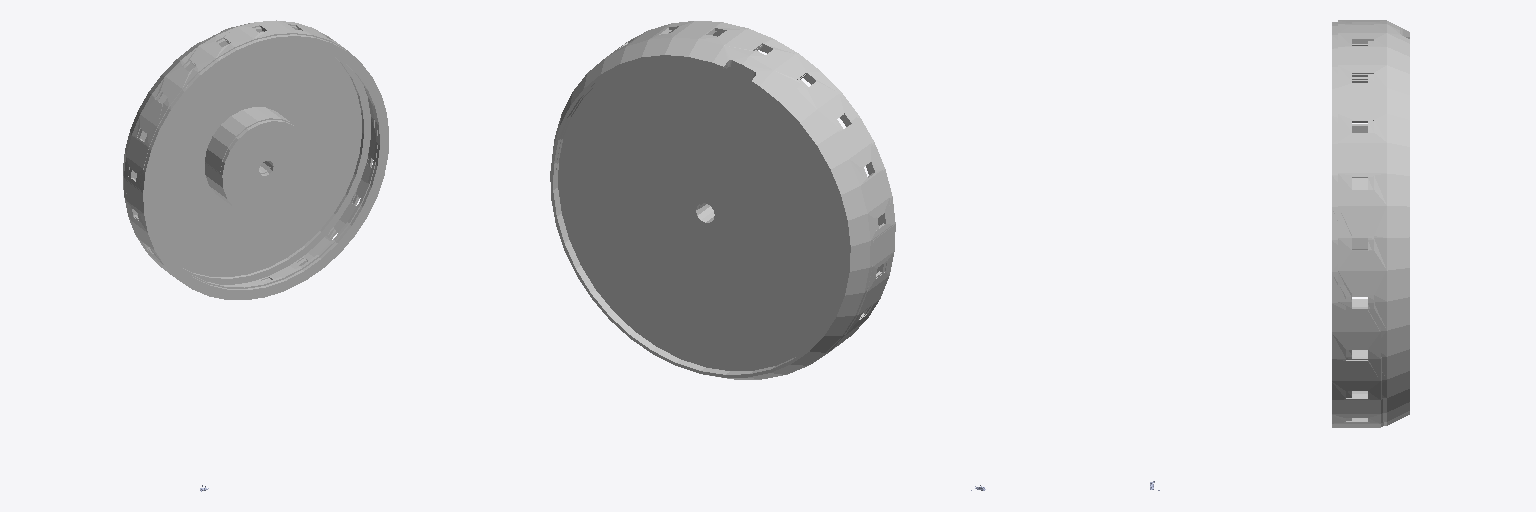
robot.urdf — car:
<robot name="car">
<!-- base link -->
  <link name="base_link">
    <inertial>
      <origin xyz="0 0 0" rpy="0 0 0" />
      <mass value="230" />
      <inertia
        ixx="933.13"
        ixy="-170.64"
        ixz="3.9682"
        iyy="696.22"
        iyz="-49.966"
        izz="472.27" />
    </inertial>
    <visual>
      <origin xyz="0 0 0" rpy="0 0 0" />
      <geometry>
        <mesh filename="package://car/meshes/base_link.STL" />
      </geometry>
      <material name="">
        <color rgba="0.79216 0.81961 0.93333 1" />
      </material>
    </visual>
    <collision>
      <origin xyz="0 0 0" rpy="0 0 0" />
      <geometry>
        <mesh filename="package://car/meshes/base_link.STL" />
      </geometry>
    </collision>
  </link>

<!-- car wheels -->
  <joint name="FL_wheel_joint" type="continuous">
    <parent link="base_link"/>
    <child link="FL_wheel"/>
    <origin xyz="0.51686 -0.01596 0.24885" rpy="0 0 0" />
  </joint>
 <link
    name="FL_wheel">
    <inertial>
      <origin
        xyz="0 0 0"
        rpy="0 0 0" />
      <mass
        value="12.374" />
      <inertia
        ixx="4.6302E-13"
        ixy="-2.0404E-09"
        ixz="3.1895E-09"
        iyy="3.0962E-05"
        iyz="2.1018E-13"
        izz="3.0962E-05" />
    </inertial>
    <visual>
      <origin xyz="0 0 0" rpy="0 0 0" />
      <geometry>
        <mesh
          filename="package://car/meshes/FL_wheel.STL" />
      </geometry>
      <material
        name="">
        <color
          rgba="0.79216 0.81961 0.93333 1" />
      </material>
    </visual>
  </link>

<joint name="FR_wheel_joint" type="continuous">
   <parent link="base_link"/>
   <child link="FR_wheel"/>
   <origin xyz="-0.51686 -0.01596 0.24885" rpy="0 0 0" />
</joint>

  <link
    name="FR_wheel">
    <inertial>
      <origin
        xyz="0 0 0"
        rpy="0 0 0" />
      <mass
        value="12.374" />
      <inertia
        ixx="2.6076E-13"
        ixy="-1.525E-09"
        ixz="-2.3975E-09"
        iyy="3.0962E-05"
        iyz="-1.1809E-13"
        izz="3.0962E-05" />
    </inertial>
    <visual>
      <origin
        xyz="0 0 0"
        rpy="0 0 0" />
      <geometry>
        <mesh
          filename="package://car/meshes/FR_wheel.STL" />
      </geometry>
      <material
        name="">
        <color
          rgba="0.79216 0.81961 0.93333 1" />
      </material>
    </visual>
    <collision>
      <origin
        xyz="0 0 0"
        rpy="0 0 0" />
      <geometry>
        <mesh
          filename="package://car/meshes/FR_wheel.STL" />
      </geometry>
    </collision>
  </link>

<joint name="RL_wheel_joint" type="continuous">
   <parent link="base_link"/>
   <child link="RL_wheel"/>
   <origin xyz="0.51686 2.08596 0.24885" rpy="0 0 0" />
</joint>

<link name="RL_wheel">
    <inertial>
      <origin
        xyz="0 0 0"
        rpy="0 0 0" />
      <mass
        value="12.374" />
      <inertia
        ixx="2.8764E-14"
        ixy="5.0415E-10"
        ixz="-7.9777E-10"
        iyy="3.0962E-05"
        iyz="1.299E-14"
        izz="3.0962E-05" />
    </inertial>
    <visual>
      <origin
        xyz="0 0 0"
        rpy="0 0 0" />
      <geometry>
        <mesh
          filename="package://car/meshes/RL_wheel.STL" />
      </geometry>
      <material
        name="">
        <color
          rgba="0.79216 0.81961 0.93333 1" />
      </material>
    </visual>
  </link>

<joint name="RR_wheel_joint" type="continuous">
   <parent link="base_link"/>
   <child link="RR_wheel"/>
   <origin xyz="-0.51686 2.08596 0.24885" rpy="0 0 0" />
</joint>

  <link
    name="RR_wheel">
    <inertial>
      <origin
        xyz="0.51686 2.08596 0.24885"
        rpy="0 0 0" />
      <mass
        value="12.374" />
      <inertia
        ixx="7.1179E-15"
        ixy="2.5605E-10"
        ixz="3.9348E-10"
        iyy="3.0963E-05"
        iyz="-3.2539E-15"
        izz="3.0963E-05" />
    </inertial>
    <visual>
      <origin
        xyz="0 0 0"
        rpy="0 0 0" />
      <geometry>
        <mesh
          filename="package://car/meshes/RR_wheel.STL" />
      </geometry>
      <material
        name="">
        <color
          rgba="0.79216 0.81961 0.93333 1" />
      </material>
    </visual>
    <collision>
      <origin
        xyz="0 0 0"
        rpy="0 0 0" />
      <geometry>
        <mesh
          filename="package://car/meshes/RR_wheel.STL" />
      </geometry>
    </collision>
  </link>


<!-- Lidar -->
  <joint name="lidar_joint" type="fixed">
      <parent link="base_link"/>
      <child link="lidar_link"/>
      <origin xyz="0 1.381 1.22877" rpy="0 0 0" />
  </joint>
  <link name="lidar_link">
      <visual>
          <origin xyz="0 50 50" rpy="0 0 0"/>
          <geometry>
              <mesh filename="package://car/meshes/lidar.STL" />
          </geometry>
          <material name="light_grey">
              <color rgba="0.8 0.8 0.8 0.8"/>
          </material>
      </visual>
  </link>

<!-- Radar -->
  <joint name="radar_joint" type="fixed">
      <parent link="base_link"/>
      <child link="radar_link"/>
      <origin xyz="0 -0.380 0.68778" rpy="0 0 0" />
  </joint>
  <link name="radar_link">
      <visual>
          <origin xyz="0 50 50" rpy="0 0 0"/>
          <geometry>
              <mesh filename="package://car/meshes/lidar.STL" />
          </geometry>
          <material name="light_grey">
              <color rgba="0.8 0.8 0.8 0.8"/>
          </material>
      </visual>
  </link>



  <!-- Camera Center -->
  <joint name="zed_camera_center_joint" type="fixed">
      <parent link="base_link"/>
      <child link="zed_camera_center"/>
      <origin xyz="0 0.788 1.176" rpy="0 0 0" />
  </joint>
  <link name="zed_camera_center">
      <visual>
          <origin xyz="0 0 0" rpy="0 0 0"/>
          <geometry>
              <mesh filename="package://car/meshes/ZED.STL" />
          </geometry>
          <material name="light_grey">
              <color rgba="0.8 0.8 0.8 0.8"/>
          </material>
      </visual>
  </link>

<!-- Left Camera -->
  <joint name="zed_left_camera_joint" type="fixed">
    <parent link="zed_camera_center"/>
    <child link="zed_left_camera_frame"/>
    <origin xyz="0.06 0 0" rpy="0 0 0" />
  </joint>

  <link name="zed_left_camera_frame" />

  <joint name="zed_left_camera_optical_joint" type="fixed">
    <origin xyz="0 0 0" rpy="-1.57079632679 0.0 -1.57079632679"/>
    <parent link="zed_left_camera_frame"/>
    <child link="zed_left_camera_optical_frame"/>
  </joint>

  <link name="zed_left_camera_optical_frame"/>

<!-- Right Camera -->
  <joint name="zed_right_camera_joint" type="fixed">
    <parent link="zed_camera_center"/>
    <child link="zed_right_camera_frame"/>
    <origin xyz="-0.06 0 0" rpy="0 0 0" />
  </joint>

  <link name="zed_right_camera_frame" />

  <joint name="zed_right_camera_optical_joint" type="fixed">
    <origin xyz="0 0 0" rpy="-1.57079632679 0.0 -1.57079632679"/>
    <parent link="zed_right_camera_frame"/>
    <child link="zed_right_camera_optical_frame"/>
  </joint>

  <link name="zed_right_camera_optical_frame"/>

</robot>

--- Facts derived from the render (not from the file) ---
3 views of the same robot in one strip: view 1: azimuth 30°, elevation 25°; view 2: azimuth 150°, elevation 25°; view 3: azimuth 270°, elevation 25° (orthographic).
Model car with 12 links and 11 joints (4 continuous, 7 fixed), rooted at base_link, posed every joint at zero.
Links seen in each view (by area): view 1: radar_link, lidar_link; view 2: lidar_link, radar_link; view 3: lidar_link, radar_link.
Boxes of the visible links, left/top/right/bottom form: radar_link: left=126, top=26, right=388, bottom=299; lidar_link: left=123, top=20, right=377, bottom=288; lidar_link: left=550, top=21, right=892, bottom=379; radar_link: left=556, top=21, right=895, bottom=378; lidar_link: left=1338, top=20, right=1409, bottom=425; radar_link: left=1332, top=22, right=1383, bottom=427.
Size in the robot's own frame: 115 by 72 by 163 metres.
Meshes: 7 distinct files referenced, 7 mesh visuals loaded (6 binary STL); not drawn: 1 (reference not matched to a file when rendering).